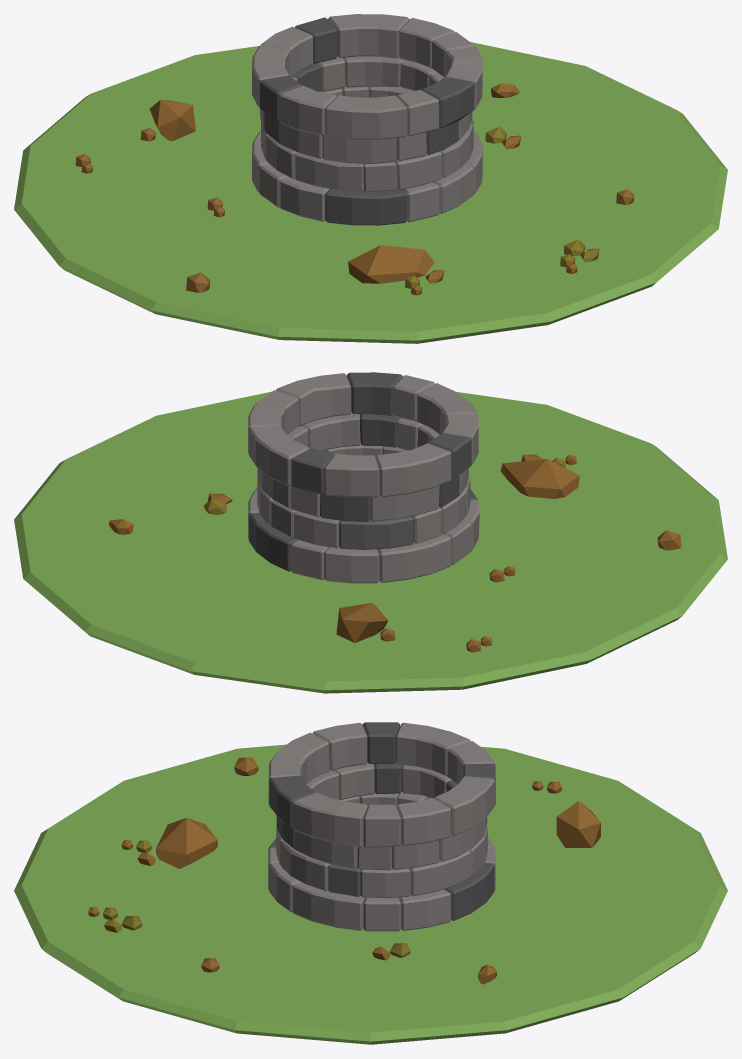
Rendered from pool.glb.
3 views of the same model, one above another, from view 1: azimuth 30°, elevation 25°; view 2: azimuth 150°, elevation 25°; view 3: azimuth 270°, elevation 25° (orthographic).
Visible parts, largest first — view 1: Cylinder.002, Cube.003, Cube.002, Cube, Cube.001, Icosphere.003, Icosphere.004; view 2: Cylinder.002, Cube.003, Cube.002, Cube, Cube.001, Icosphere.003, Icosphere.004; view 3: Cylinder.002, Cube.003, Cube.002, Cube, Cube.001, Icosphere.003, Icosphere.004.
Part boxes in pixels (left/top/right/bottom): Cylinder.002: left=14, top=42, right=727, bottom=343; Cube.003: left=252, top=14, right=482, bottom=139; Cube.002: left=260, top=56, right=472, bottom=163; Cube: left=252, top=130, right=482, bottom=225; Cube.001: left=261, top=86, right=473, bottom=192; Icosphere.003: left=348, top=245, right=434, bottom=283; Icosphere.004: left=149, top=99, right=195, bottom=140; Cylinder.002: left=14, top=391, right=727, bottom=693; Cube.003: left=248, top=372, right=478, bottom=497; Cube.002: left=257, top=412, right=468, bottom=521; Cube: left=248, top=488, right=479, bottom=583; Cube.001: left=257, top=440, right=470, bottom=549; Icosphere.003: left=500, top=458, right=579, bottom=498; Icosphere.004: left=336, top=603, right=388, bottom=642; Cylinder.002: left=14, top=744, right=727, bottom=1044; Cube.003: left=268, top=722, right=495, bottom=847; Cube.002: left=276, top=761, right=487, bottom=870; Cube: left=268, top=838, right=495, bottom=931; Cube.001: left=276, top=791, right=487, bottom=898; Icosphere.003: left=156, top=817, right=217, bottom=868; Icosphere.004: left=556, top=801, right=600, bottom=847.
Size of the model in its own units: 18.25 by 4.41 by 18.25.
